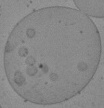small: (15, 71, 25, 87), (25, 67, 38, 76), (5, 41, 14, 53), (26, 28, 36, 38), (25, 56, 35, 66), (77, 62, 87, 71), (39, 64, 49, 73), (18, 47, 28, 56), (50, 73, 58, 82)
